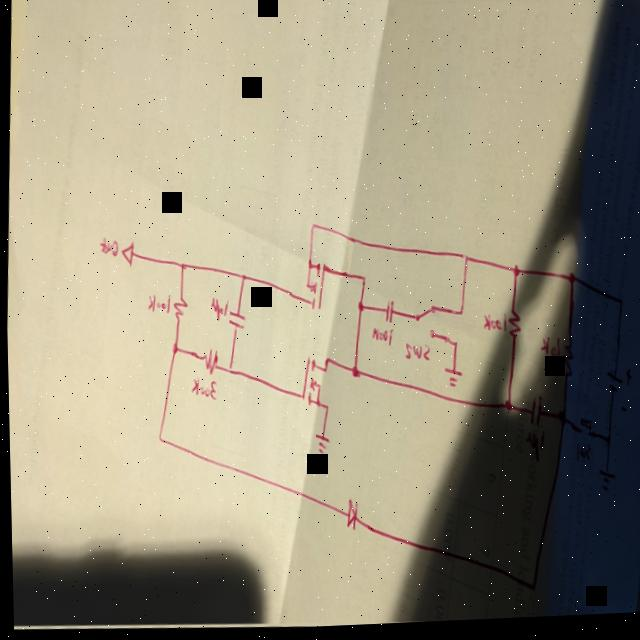capacitor: (526, 399, 542, 432), (226, 310, 245, 334), (382, 301, 394, 326)
diode: (343, 500, 357, 535)
ground: (595, 470, 614, 498), (311, 434, 329, 458), (442, 371, 462, 390)
junction: (502, 401, 511, 417), (556, 413, 565, 429), (603, 437, 611, 452), (511, 268, 519, 282), (349, 367, 357, 381), (567, 275, 575, 289), (170, 343, 178, 356), (178, 260, 185, 272), (462, 255, 468, 268), (617, 300, 623, 312), (226, 365, 232, 377), (309, 223, 315, 235), (528, 584, 534, 596), (239, 274, 246, 284), (360, 276, 366, 287), (357, 304, 363, 314), (457, 311, 463, 321), (451, 343, 457, 353), (155, 433, 161, 443), (324, 357, 328, 365), (323, 405, 327, 413), (322, 368, 326, 376)
resistor: (559, 342, 574, 385), (199, 348, 219, 378), (505, 311, 521, 345), (171, 296, 187, 324)
source: (603, 371, 632, 419)
switch: (412, 306, 435, 344), (575, 420, 591, 444)
terminal: (119, 240, 135, 268)
text: (522, 431, 544, 467), (188, 376, 218, 402), (145, 291, 172, 315), (537, 338, 561, 364), (402, 344, 430, 366), (208, 295, 227, 325), (481, 316, 506, 338), (369, 327, 392, 350), (97, 236, 118, 259), (573, 445, 590, 469)
transistor: (298, 356, 321, 412), (303, 260, 326, 314)
